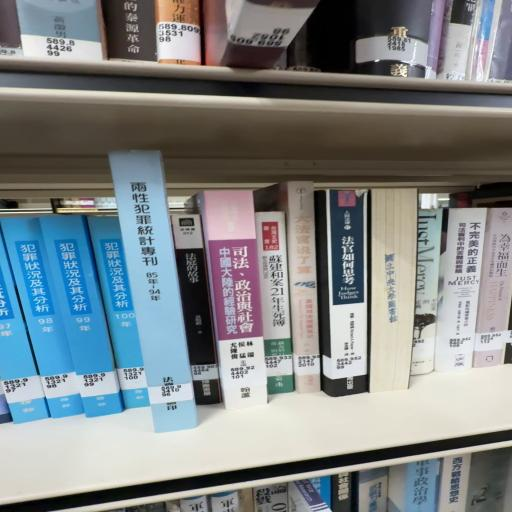backward: (369, 189, 419, 394)
book: (107, 155, 195, 438), (198, 191, 268, 415), (175, 195, 223, 415), (323, 192, 371, 402), (436, 206, 491, 374)
